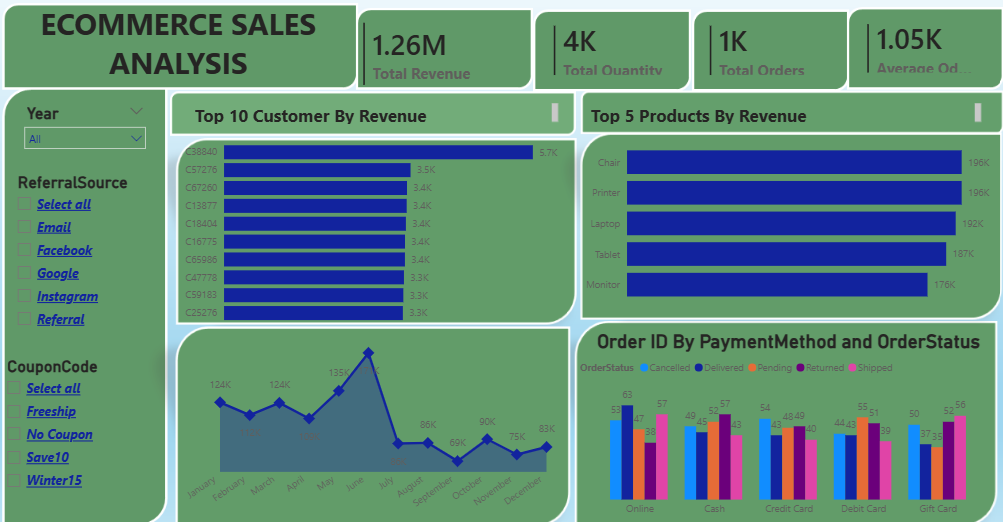

The dashboard page shown, as its layout file describes it:
{"tool":"powerbi","page":{"name":"Page 2","canvas":[1280,720],"ordinal":1},"visuals":[{"type":"cardVisual","fields":{"Data":["Ecommerce Sales Table.Total Revenue"]},"box":[442.9,57,241.4,112.2],"z":0},{"type":"clusteredBarChart","title":"Top 10 Customer by Revenue","fields":{"Category":["Ecommerce Sales Table.CustomerID"],"Y":["Ecommerce Sales Table.Total Revenue"]},"box":[227.9,205.1,486.2,256.4],"z":1000},{"type":"textbox","box":[243.3,169.2,467.6,36.1],"z":2000},{"type":"clusteredBarChart","fields":{"Category":["Ecommerce Sales Table.Product"],"Y":["Ecommerce Sales Table.Total Revenue"]},"box":[730,205.3,534.2,233.8],"z":3000},{"type":"textbox","box":[741.4,169.2,501.9,36.1],"z":4000},{"type":"areaChart","title":"Yearly Sales Trend ","fields":{"Category":["Date.Month"],"Y":["Sum(Ecommerce Sales Table.TotalPrice)"]},"box":[228.1,461.9,482.9,243.3],"z":5000},{"type":"clusteredColumnChart","title":"Order ID By PaymentMethod and OrderStatus","fields":{"Category":["Ecommerce Sales Table.PaymentMethod"],"Y":["CountNonNull(Ecommerce Sales Table.OrderID)"],"Series":["Ecommerce Sales Table.OrderStatus"]},"box":[729.3,461.5,535.5,243.1],"z":6000},{"type":"slicer","fields":{"Values":["Date.Year"]},"box":[24.7,169.2,173,72.2],"z":7000},{"type":"slicer","fields":{"Values":["Ecommerce Sales Table.ReferralSource"]},"box":[13.3,256.6,195.8,218.6],"z":8000},{"type":"slicer","fields":{"Values":["Ecommerce Sales Table.CouponCode"]},"box":[0,488.6,209.1,201.5],"z":9000},{"type":"textbox","box":[13.3,43.7,429.6,112.2],"z":10000},{"type":"cardVisual","fields":{"Data":["Ecommerce Sales Table.Total Quantity"]},"box":[684.4,60.8,195.8,97],"z":11000},{"type":"cardVisual","fields":{"Data":["Ecommerce Sales Table.Total Orders"]},"box":[880.2,60.8,178.7,97],"z":12000},{"type":"cardVisual","fields":{"Data":["Ecommerce Sales Table.Average Oder Value"]},"box":[1077.9,58.9,186.3,95.1],"z":13000}]}

Visuals, with their boxes on the page's 1280x720 design canvas (x1, y1, x2, y2). These are canvas units, not pixel positions in the 1003x522 screenshot, which may show the page scaled, cropped or inside an application window:
cardVisual - Ecommerce Sales Table.Total Revenue: [x1=443, y1=57, x2=684, y2=169]
"Top 10 Customer by Revenue" clusteredBarChart: [x1=228, y1=205, x2=714, y2=462]
textbox: [x1=243, y1=169, x2=711, y2=205]
clusteredBarChart - Ecommerce Sales Table.Product x Ecommerce Sales Table.Total Revenue: [x1=730, y1=205, x2=1264, y2=439]
textbox: [x1=741, y1=169, x2=1243, y2=205]
"Yearly Sales Trend " areaChart: [x1=228, y1=462, x2=711, y2=705]
"Order ID By PaymentMethod and OrderStatus" clusteredColumnChart: [x1=729, y1=462, x2=1265, y2=705]
slicer - Date.Year: [x1=25, y1=169, x2=198, y2=241]
slicer - Ecommerce Sales Table.ReferralSource: [x1=13, y1=257, x2=209, y2=475]
slicer - Ecommerce Sales Table.CouponCode: [x1=0, y1=489, x2=209, y2=690]
textbox: [x1=13, y1=44, x2=443, y2=156]
cardVisual - Ecommerce Sales Table.Total Quantity: [x1=684, y1=61, x2=880, y2=158]
cardVisual - Ecommerce Sales Table.Total Orders: [x1=880, y1=61, x2=1059, y2=158]
cardVisual - Ecommerce Sales Table.Average Oder Value: [x1=1078, y1=59, x2=1264, y2=154]
